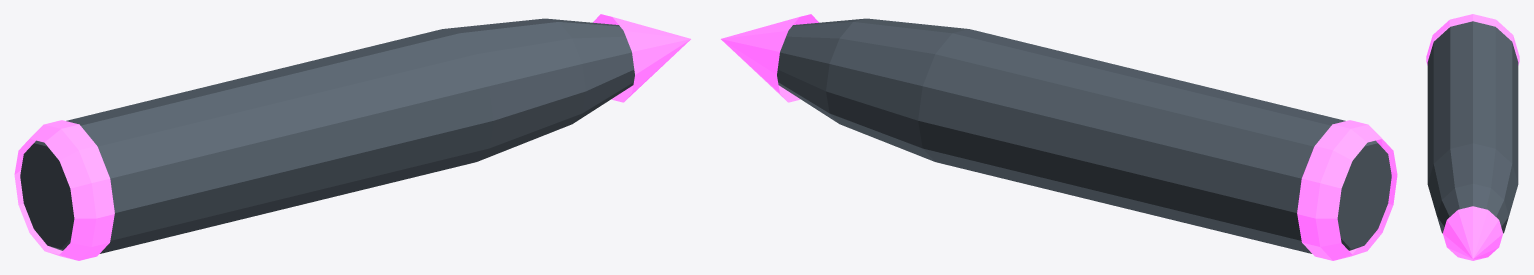
The model's file is pink.glb.
The picture shows the model from 3 angles, left to right: view 1: azimuth 30°, elevation 25°; view 2: azimuth 150°, elevation 25°; view 3: azimuth 270°, elevation 25°; orthographic projection. The views are drawn at different scales.
Visible parts, largest first — view 1: Projectile / tapered copper-alloy jacket.004, Projectile / rear tracer compound.004, Projectile / luminous nose.004; view 2: Projectile / tapered copper-alloy jacket.004, Projectile / rear tracer compound.004, Projectile / luminous nose.004; view 3: Projectile / tapered copper-alloy jacket.004, Projectile / luminous nose.004, Projectile / rear tracer compound.004.
Boxes of the visible parts, x1,y1,x2,y2 form: Projectile / tapered copper-alloy jacket.004: (20, 18, 634, 253); Projectile / rear tracer compound.004: (14, 120, 114, 260); Projectile / luminous nose.004: (593, 14, 690, 102); Projectile / tapered copper-alloy jacket.004: (777, 18, 1391, 253); Projectile / rear tracer compound.004: (1297, 120, 1397, 260); Projectile / luminous nose.004: (721, 14, 818, 102); Projectile / tapered copper-alloy jacket.004: (1427, 21, 1518, 233); Projectile / luminous nose.004: (1442, 206, 1503, 260); Projectile / rear tracer compound.004: (1426, 14, 1519, 65).
Size of the model in its own units: 0.424 by 0.08 by 0.08.
